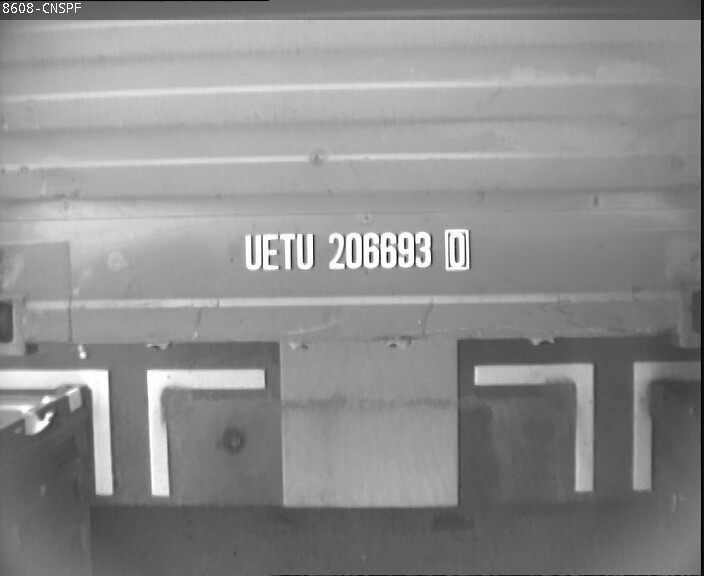groundmarker_1: (1, 367, 265, 499), (470, 362, 704, 495)
